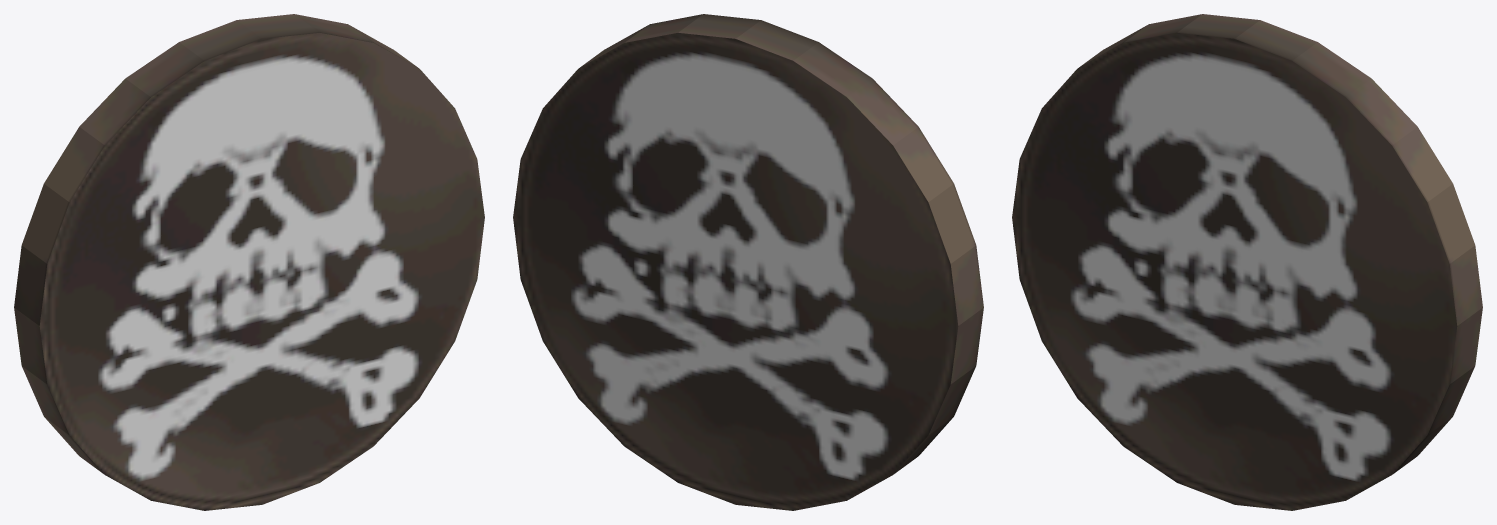
Rendered from CH.ico.obj.
3 views of the same model, side by side, from view 1: azimuth 30°, elevation 25°; view 2: azimuth 150°, elevation 25°; view 3: azimuth 330°, elevation 25° (orthographic).
Bounding box in the file's own units: 3 × 3 × 0.2998.
1 material, 1 textured.
